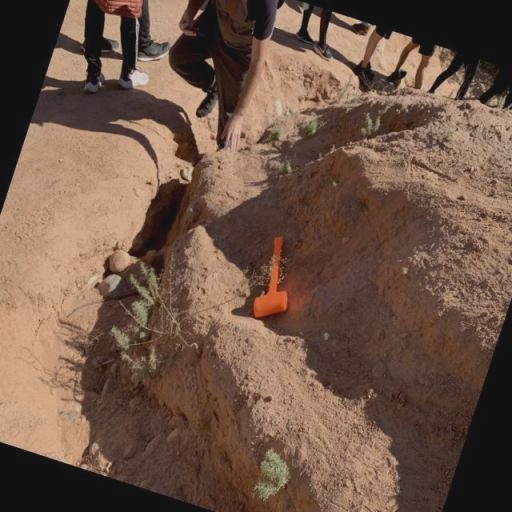mallet: (248, 230, 312, 328)
